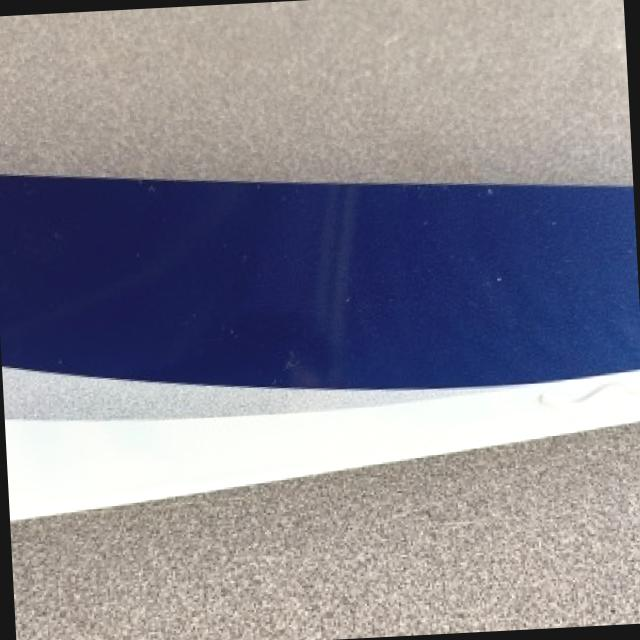healthy: (0, 174, 640, 516)
